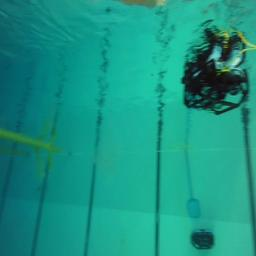Side: (190, 229, 214, 248)
back: (180, 59, 248, 116)
